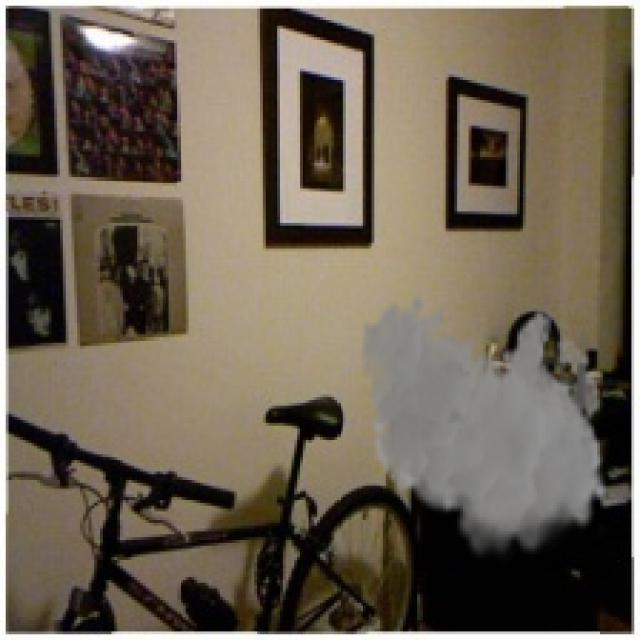smoke: (360, 294, 609, 566)
